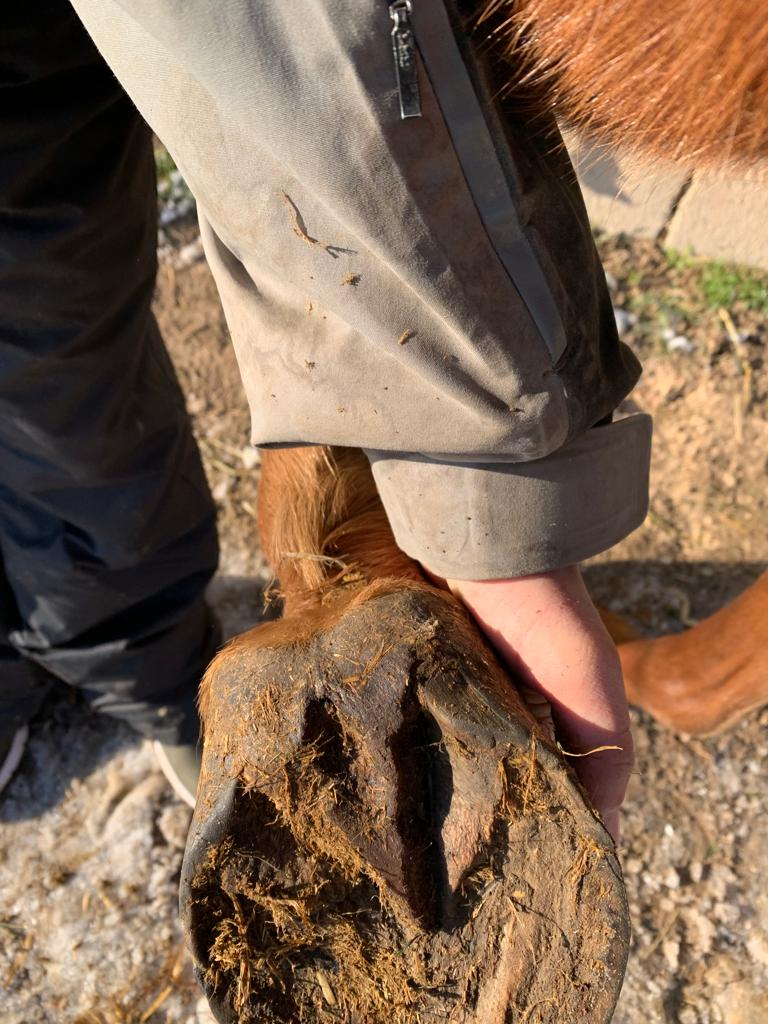horsesole: (176, 685, 632, 1024)
